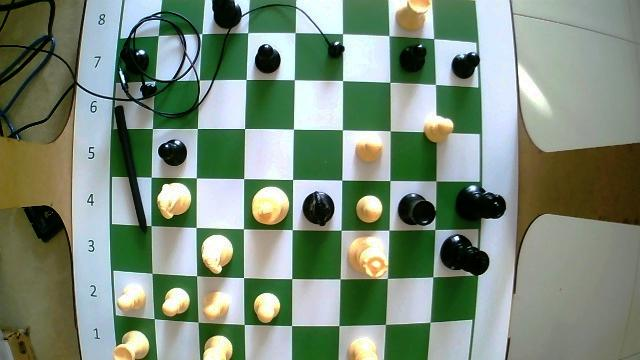piece: (441, 235, 488, 275), (456, 186, 505, 219), (349, 236, 386, 277), (251, 187, 288, 224), (398, 193, 434, 225), (202, 235, 232, 273), (158, 183, 189, 218), (303, 192, 333, 225), (114, 331, 148, 359), (397, 0, 429, 29), (161, 288, 189, 316), (424, 116, 453, 142), (254, 293, 279, 322), (213, 0, 239, 27), (203, 292, 229, 319), (452, 52, 479, 78), (356, 196, 382, 222), (117, 284, 145, 308), (202, 336, 231, 359), (255, 45, 279, 72), (400, 45, 424, 71), (159, 142, 186, 165), (356, 141, 378, 161), (351, 341, 375, 359)
